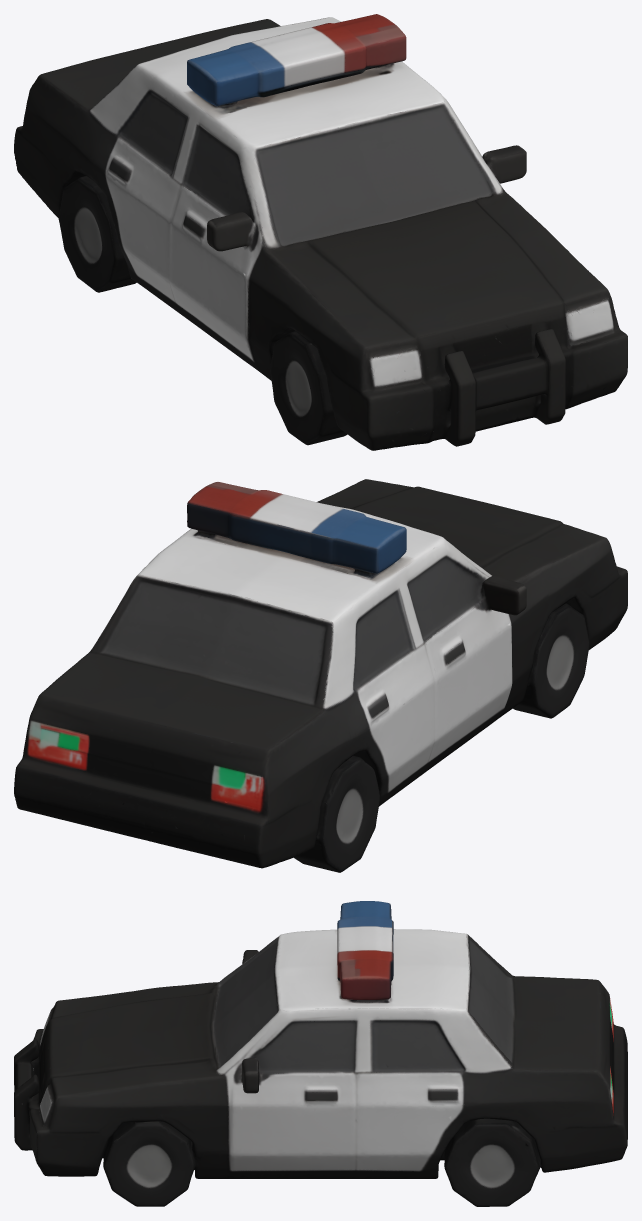
File: Policecar.glb
The picture shows the model from 3 angles, top to bottom: view 1: azimuth 30°, elevation 25°; view 2: azimuth 150°, elevation 25°; view 3: azimuth 270°, elevation 25°; orthographic projection. The views are drawn at different scales.
Visible parts, largest first — view 1: world; view 2: world; view 3: world.
Part boxes in pixels (x1=…): world: x1=14, y1=14, x2=627, y2=450; world: x1=14, y1=479, x2=627, y2=872; world: x1=14, y1=901, x2=627, y2=1206.
Bounding box in the file's own units: 0.48 × 0.3903 × 1.
1 material, 1 textured.
